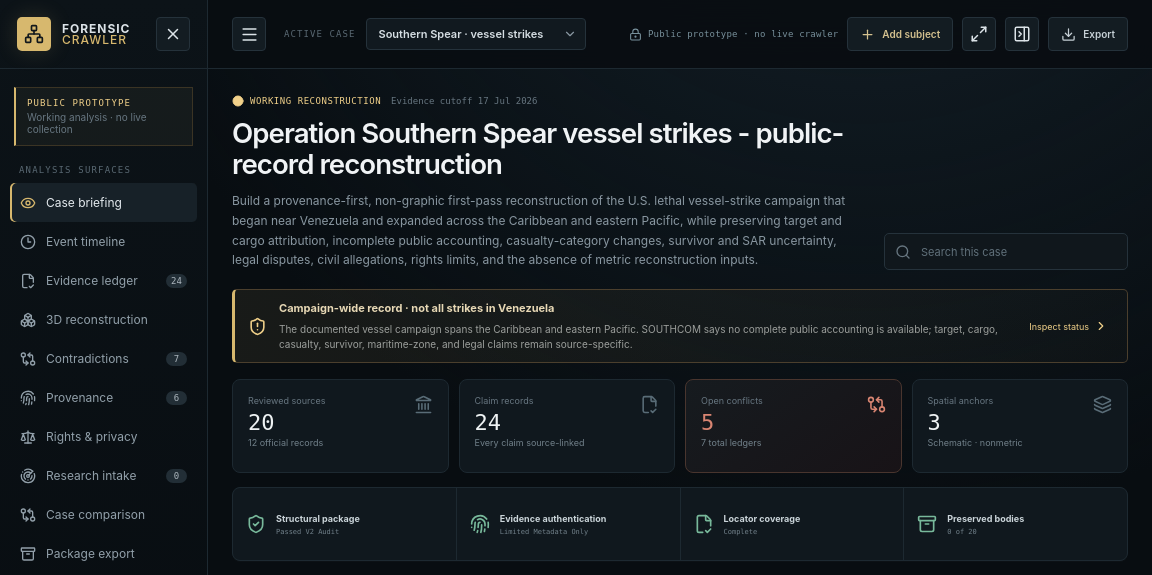
local review interface › searches claims and source metadata without changing the package
The image size is (1152, 575).
Click the button "Evidence ledger 24" at (104, 280), box [10,261,197,300]
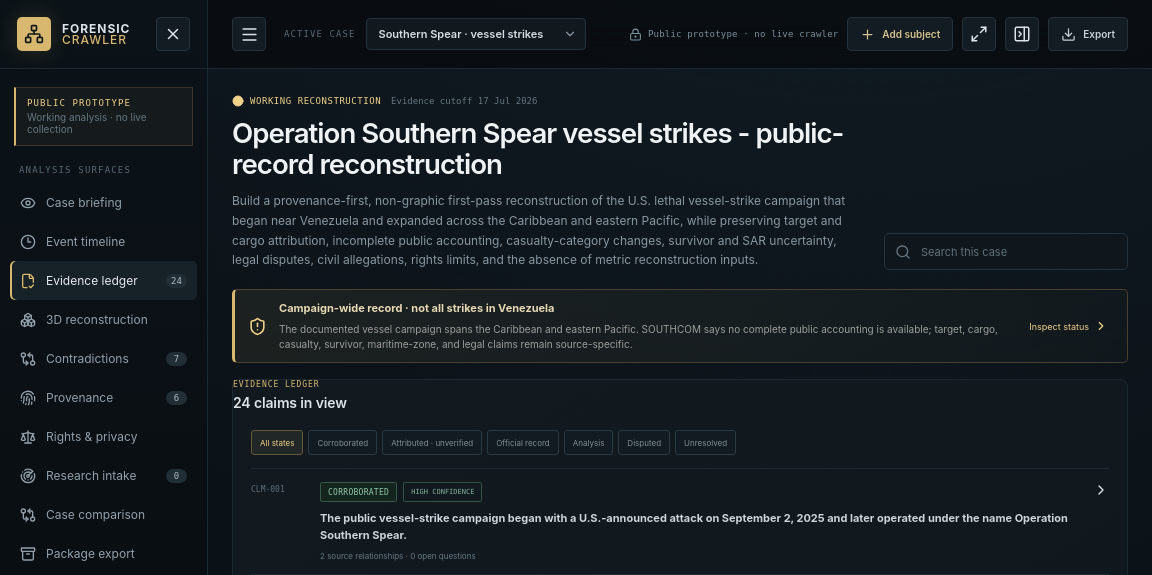
Type "publicly releasable accounting" into the field named "Search case records" at (1018, 252), box [919,244,1117,260]
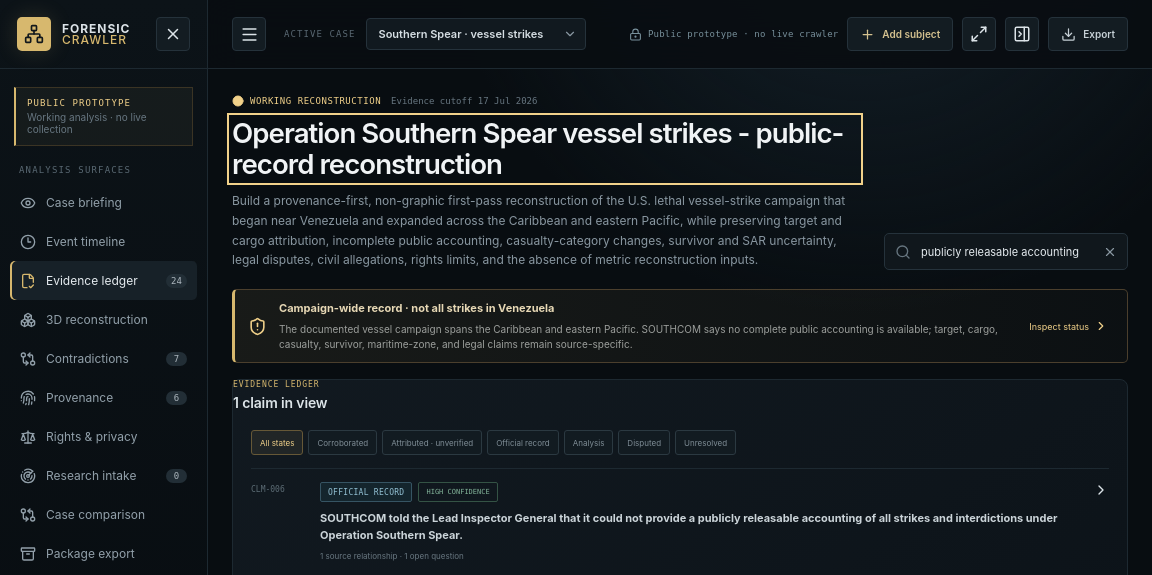
expect the text "could not provide a publicly releasable accounting" is shown: met, box [320,511,1057,542]
expect the heading "1 claim in view" is shown: met, box [233,394,328,411]
